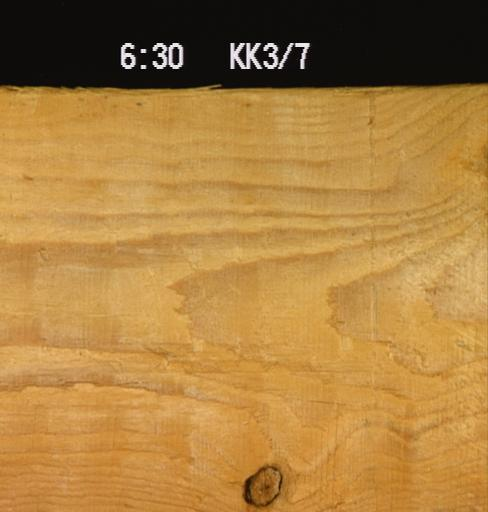wave: (0, 85, 358, 120)
